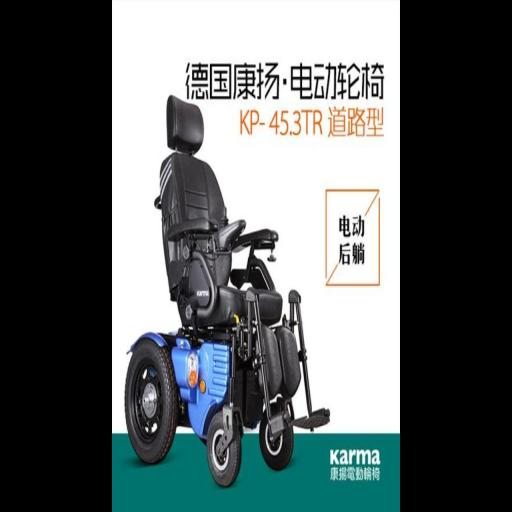cadeira_de_rodas: (120, 93, 333, 492)
